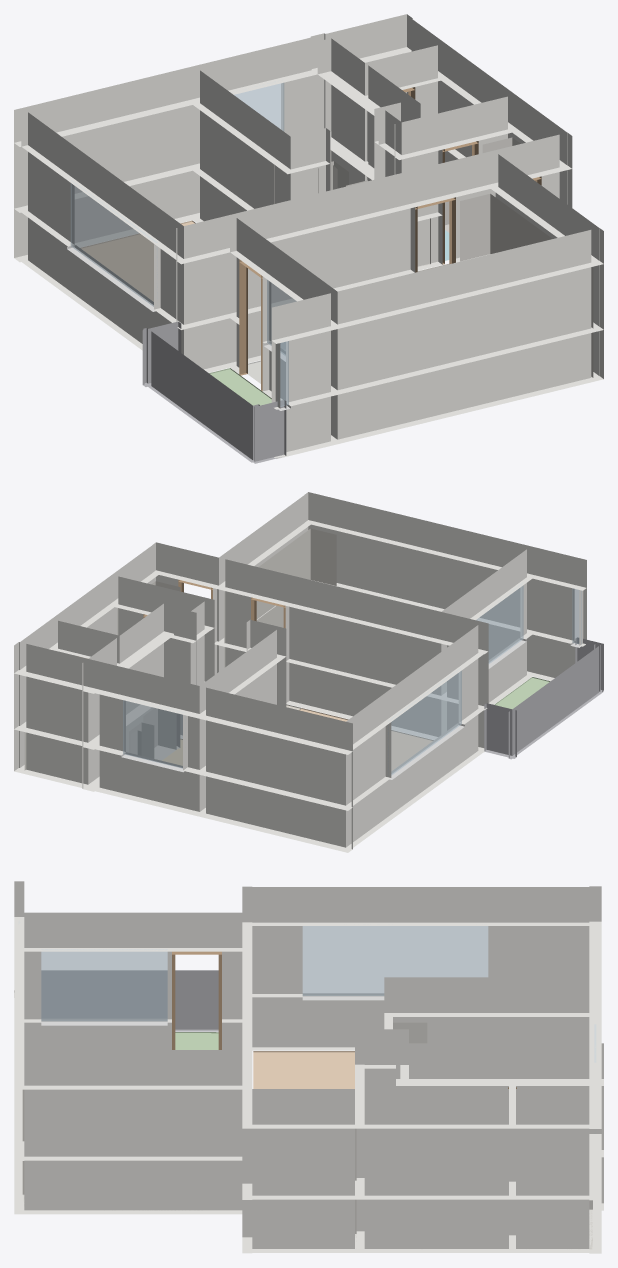
The picture shows the model from 3 angles, top to bottom: view 1: azimuth 30°, elevation 25°; view 2: azimuth 150°, elevation 25°; view 3: azimuth 270°, elevation 25°; orthographic projection. The views are drawn at different scales.
Visible parts, largest first — view 1: walls, railings, window_6, furniture_2_closet, floor_0_Living_Room, window_2, door_4, floor_5_Outdoor, sill_6, door_1, window_7, window_8; view 2: walls, railings, window_6, furniture_2_closet, window_2, window_7, furniture_10_sink, floor_0_Living_Room, floor_5_Outdoor, sill_6, furniture_4_appliance, window_8; view 3: walls, window_6, window_7, railings, floor_0_Living_Room, door_4, floor_5_Outdoor, sill_7, furniture_0_closet.
Part boxes in pixels (x1,y1,x2,y2): walls: [14, 14, 603, 458]; railings: [142, 321, 286, 463]; window_6: [70, 180, 157, 306]; furniture_2_closet: [460, 193, 593, 384]; floor_0_Living_Room: [81, 220, 195, 301]; window_2: [234, 81, 284, 131]; door_4: [239, 259, 262, 391]; floor_5_Outdoor: [209, 368, 271, 405]; sill_6: [67, 245, 155, 311]; door_1: [415, 197, 455, 272]; window_7: [267, 280, 296, 355]; window_8: [278, 341, 288, 406]; walls: [14, 492, 586, 852]; railings: [484, 637, 603, 759]; window_6: [388, 668, 461, 775]; furniture_2_closet: [224, 528, 336, 667]; window_2: [123, 700, 185, 768]; window_7: [476, 584, 523, 663]; furniture_10_sink: [143, 708, 176, 760]; floor_0_Living_Room: [299, 708, 433, 770]; floor_5_Outdoor: [494, 677, 550, 709]; sill_6: [389, 723, 464, 779]; furniture_4_appliance: [129, 722, 153, 758]; window_8: [572, 588, 581, 644]; walls: [14, 881, 603, 1253]; window_6: [302, 926, 488, 995]; window_7: [41, 949, 167, 1021]; railings: [41, 970, 218, 1031]; floor_0_Living_Room: [253, 1051, 354, 1088]; door_4: [172, 951, 221, 1049]; floor_5_Outdoor: [175, 1032, 218, 1049]; sill_7: [41, 1021, 167, 1025]; furniture_0_closet: [393, 1022, 427, 1043].
Size of the model in its own units: 8.14 by 2.72 by 9.01.
